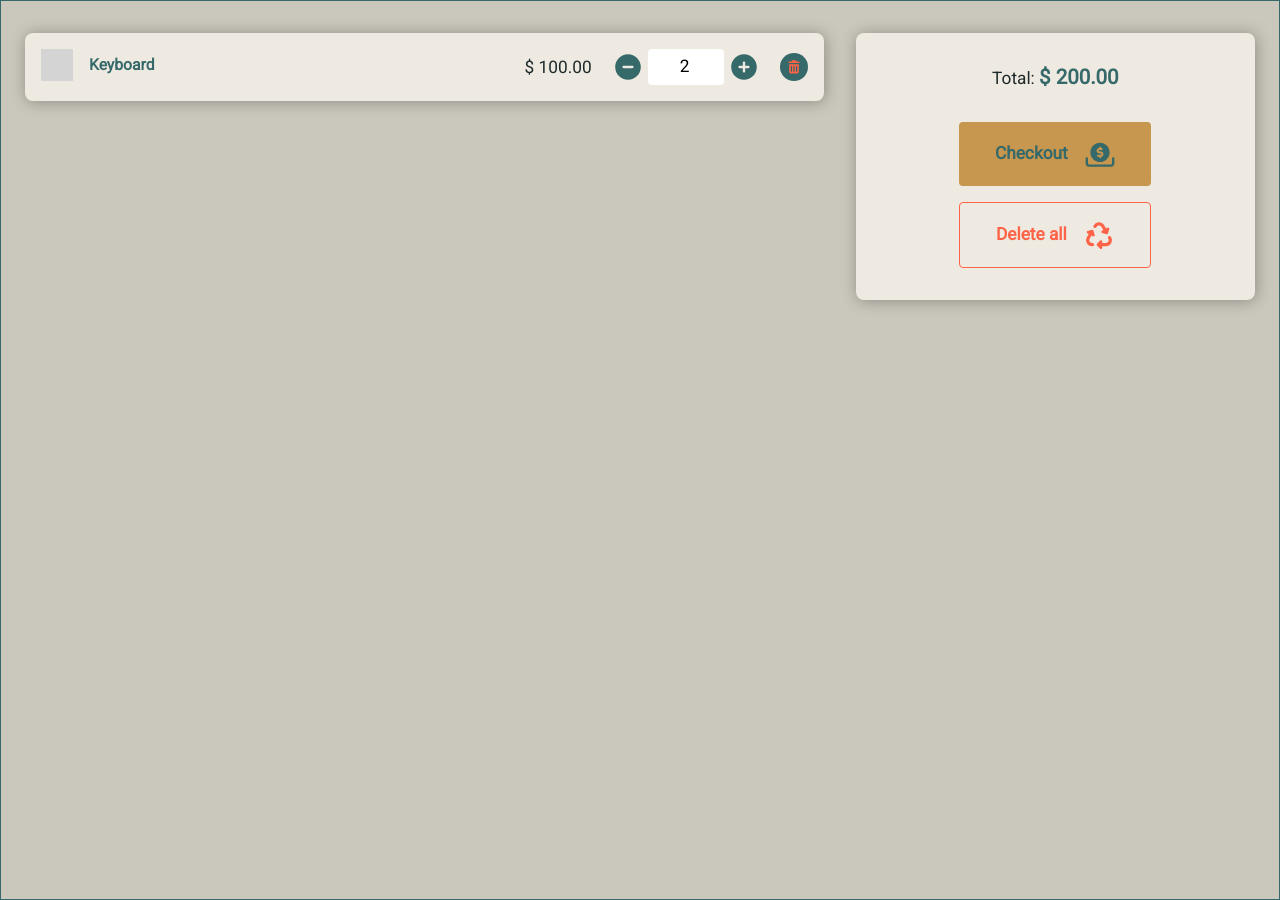
Test: Cart › shows thank-you message after checkout click
Click the button "Checkout" at point(1055, 154), box [959,122,1151,186]
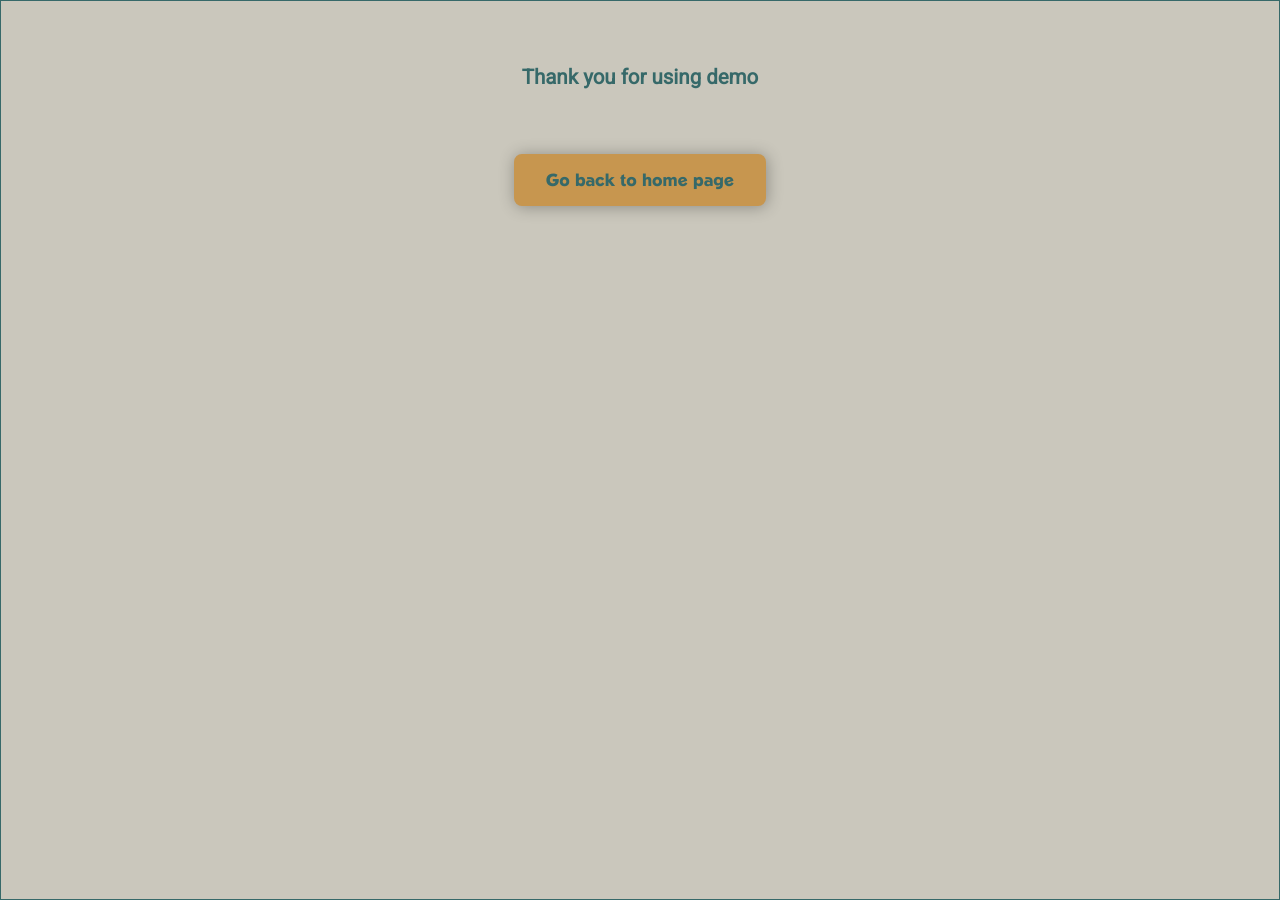
Result: the text "Thank you for using demo" is shown at [522,65,758,90]
Result: the link "Go back to home page" is shown at [514,154,766,206]
